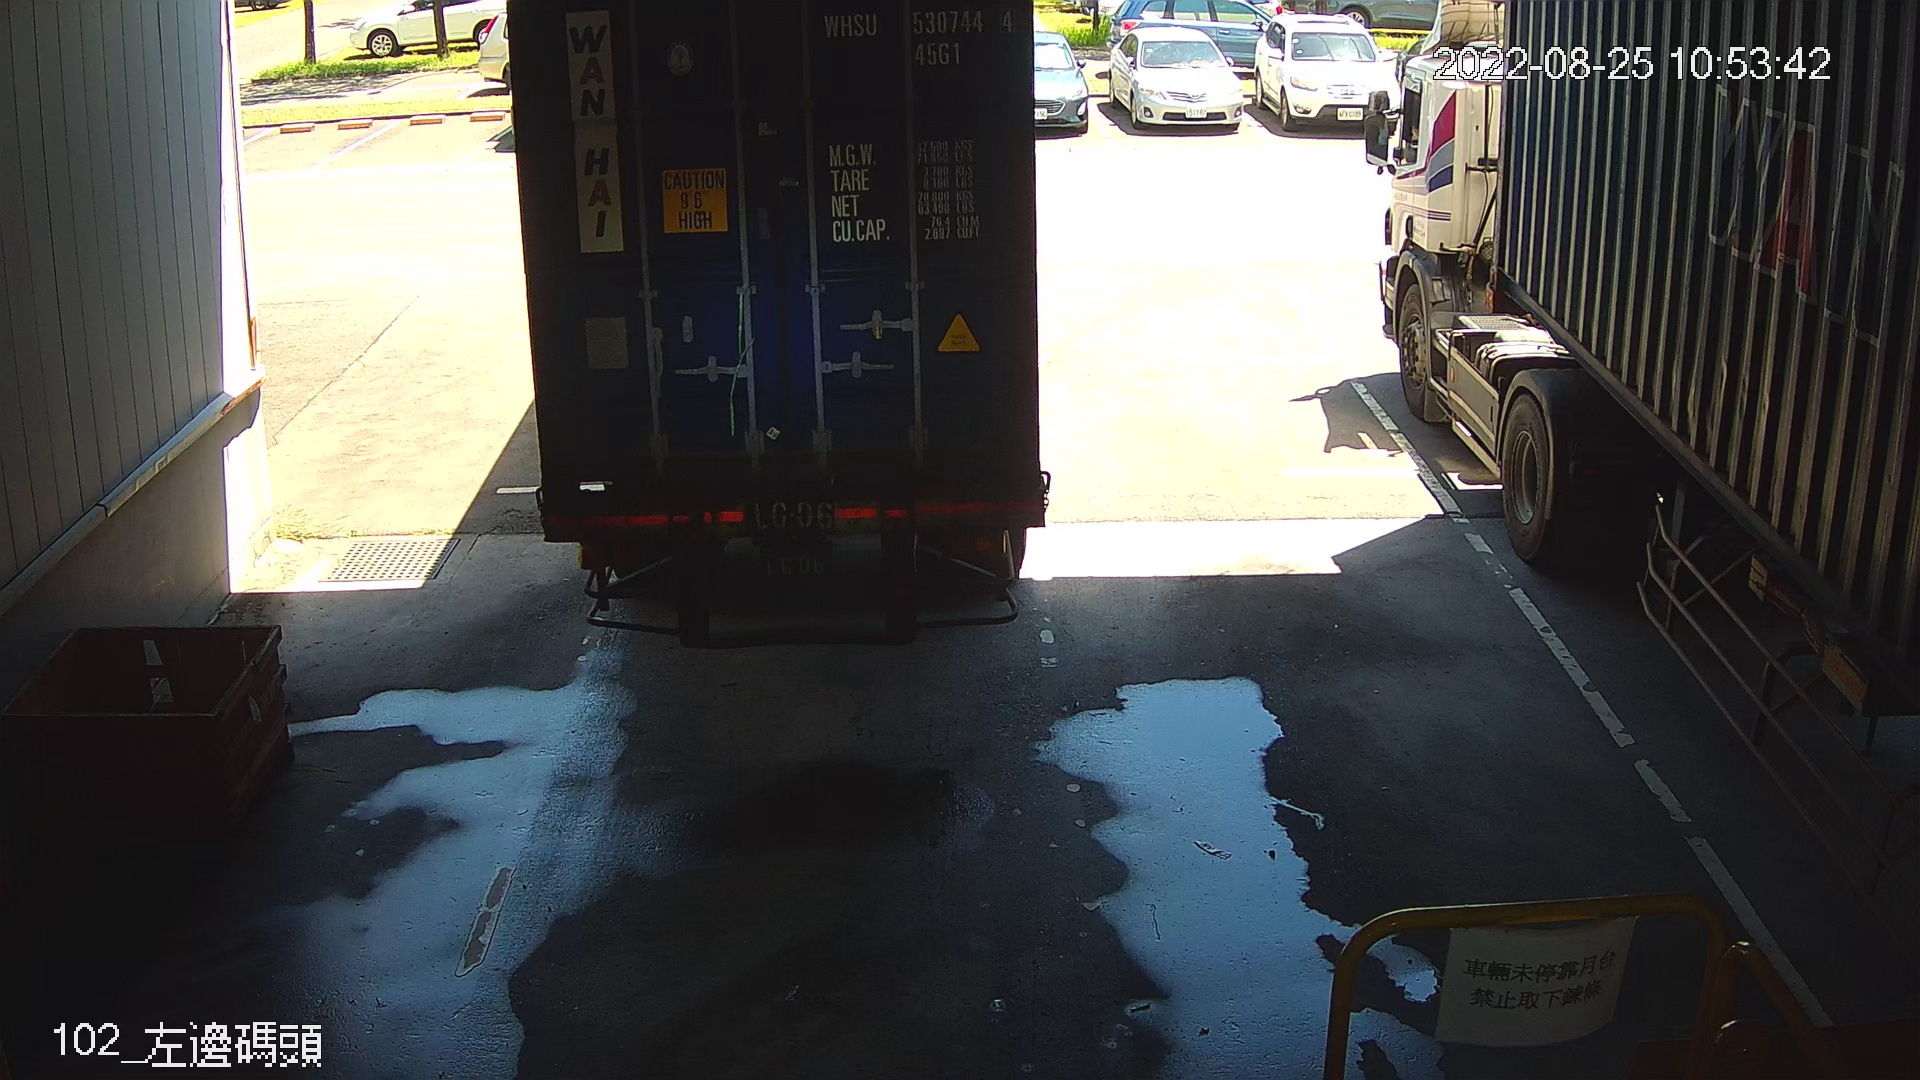container: (819, 3, 1023, 73)
